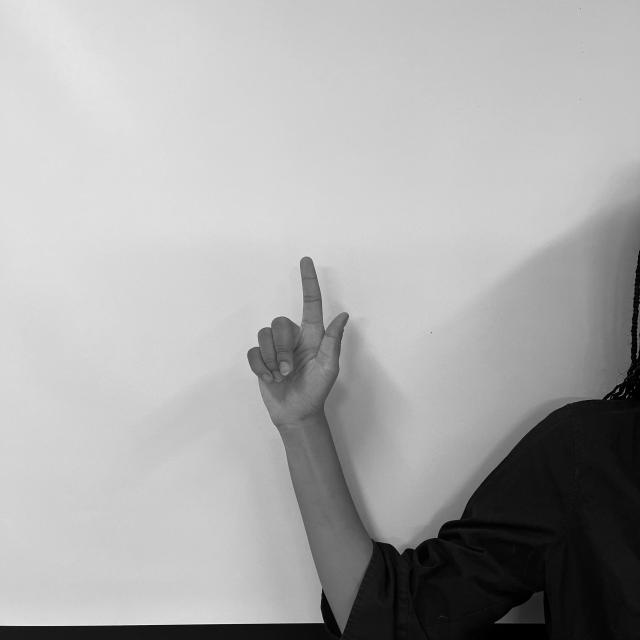Letra G: (245, 254, 352, 426)
